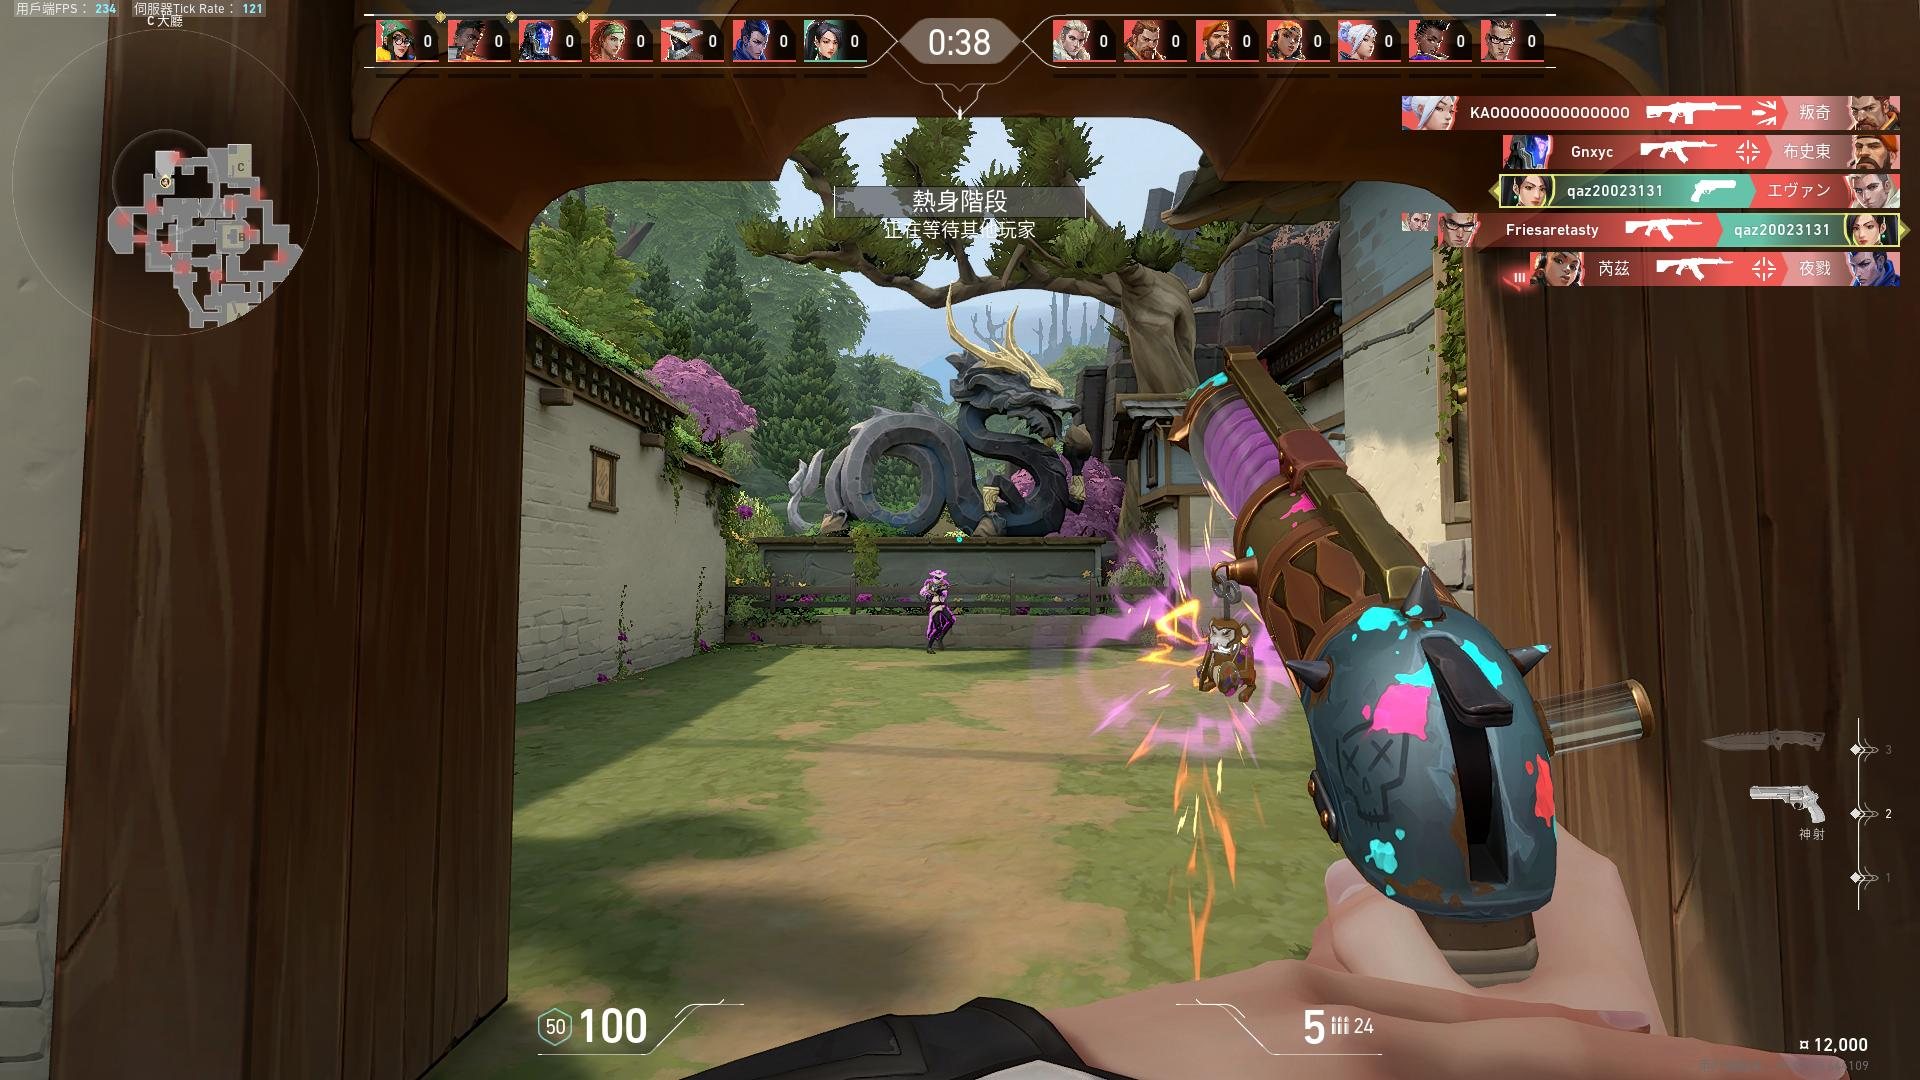enemyBody: (932, 583, 942, 603)
enemyHead: (935, 575, 942, 582)
